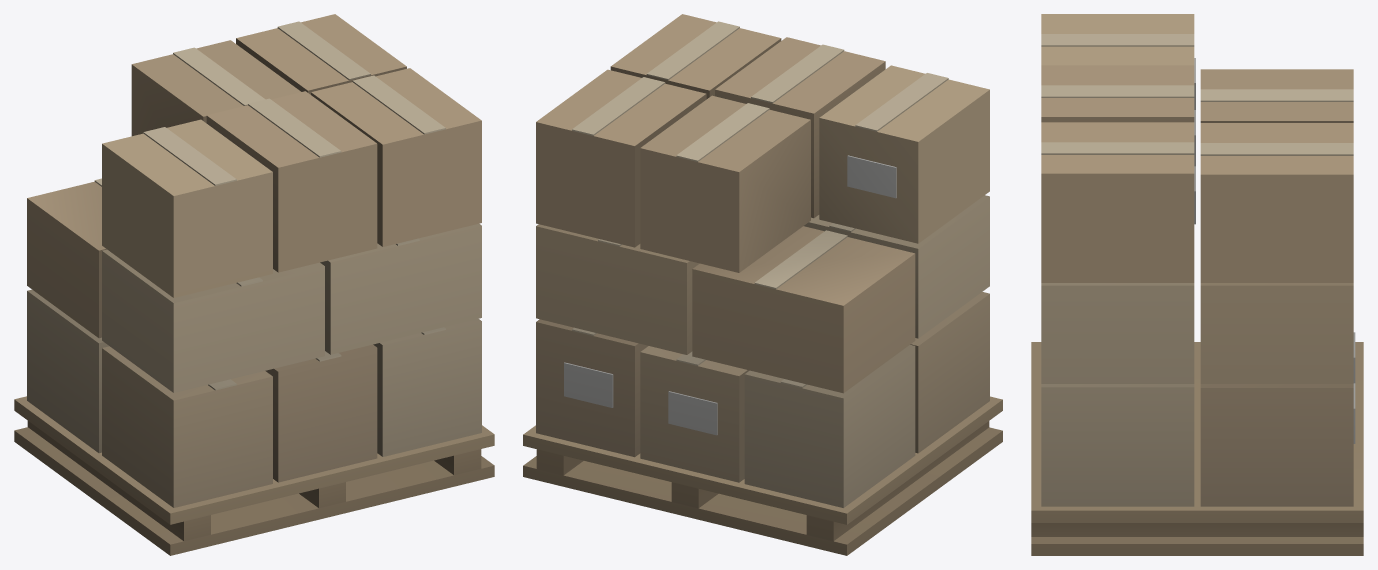
File: cartons_b.glb
3 renders of one model, left to right at view 1: azimuth 30°, elevation 25°; view 2: azimuth 150°, elevation 25°; view 3: azimuth 270°, elevation 25°, orthographic. The views are drawn at different scales.
Visible parts, largest first — view 1: cartons_b; view 2: cartons_b; view 3: cartons_b.
Part boxes in pixels (box(x1,y1,x2,y2)): cartons_b: box(14, 14, 494, 555); cartons_b: box(523, 14, 1002, 555); cartons_b: box(1031, 14, 1363, 555).
Size of the model in its own units: 1.2 by 1.27 by 1.
